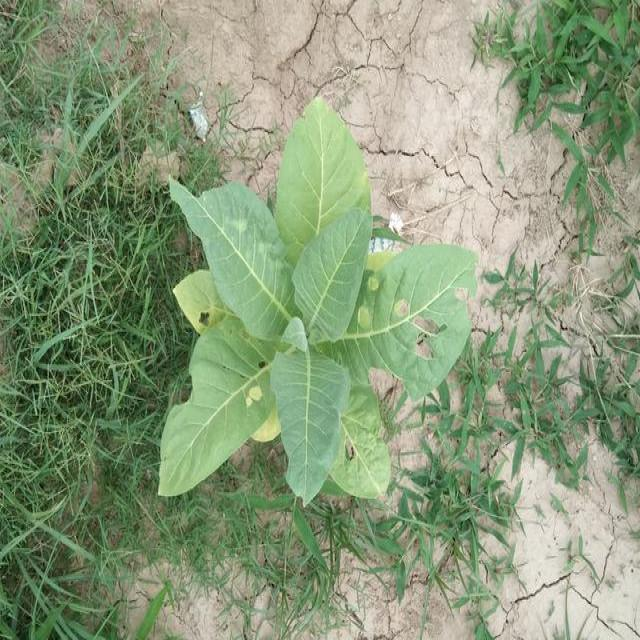crop: (163, 95, 482, 522)
